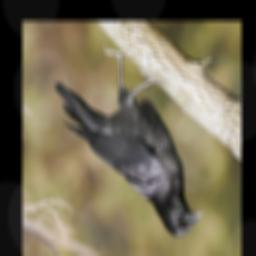Crow: (54, 42, 206, 239)
